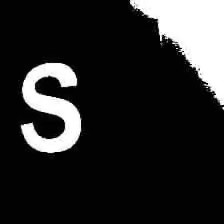LTR_S: (12, 61, 85, 153)
